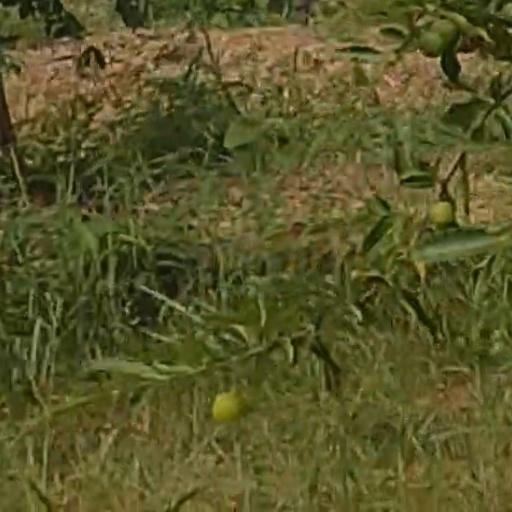acerola_verde: (211, 392, 247, 419), (418, 30, 443, 59), (432, 17, 457, 44), (431, 200, 450, 224)
